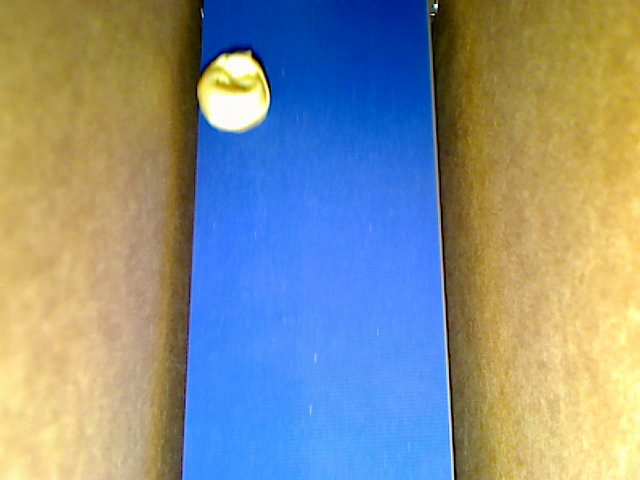tortellini: (197, 51, 269, 131)
